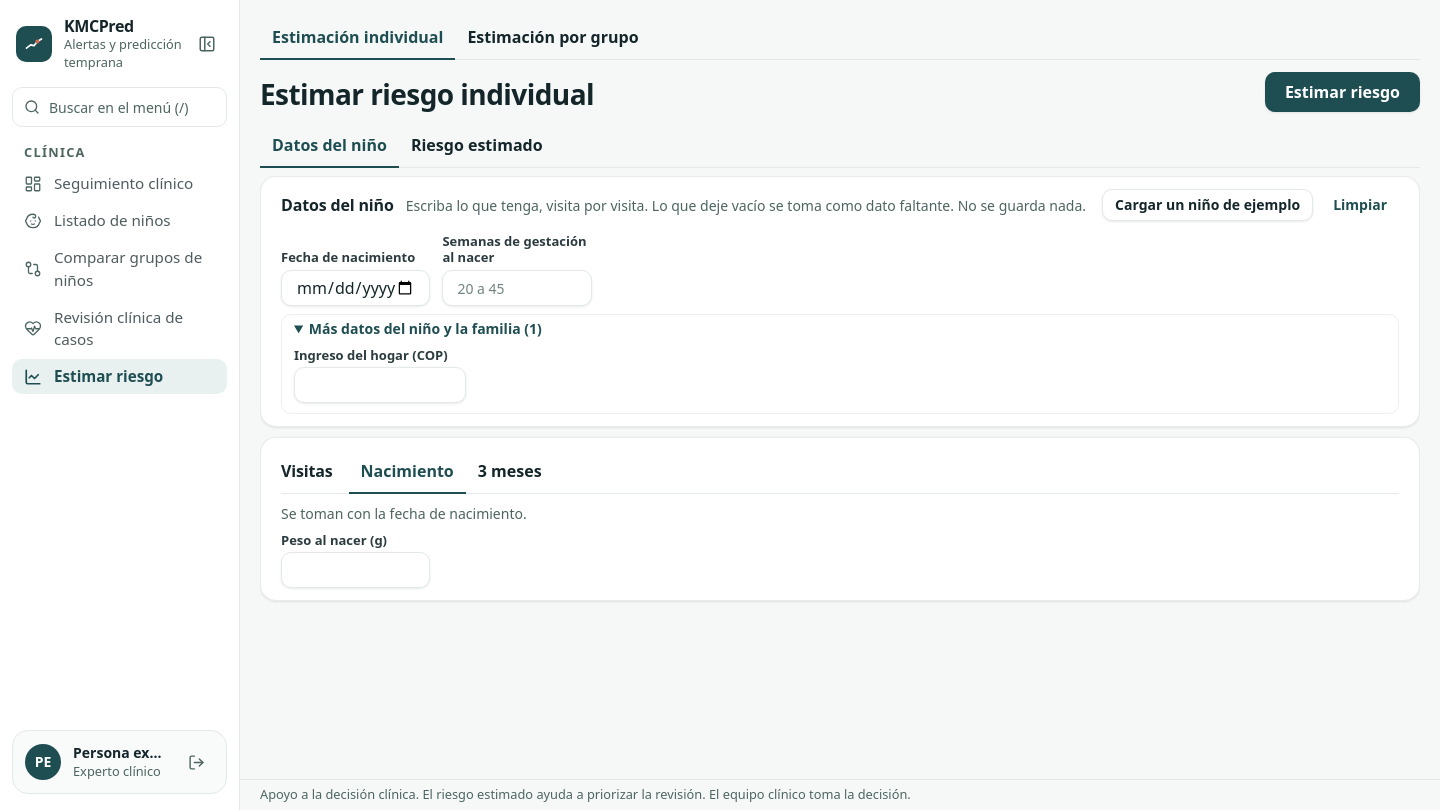
Test: calcular el riesgo de un niño › arma la petición desde el formulario y muestra el resultado en palabras clínicas
This screenshot has width=1440, height=810.
Type "2026-01-10" into the date field labelled "Fecha de nacimiento" at coordinates (356, 288), box [281,270,430,306]
Type "30,5" into the field labelled "Semanas de gestación al nacer" at coordinates (517, 288), box [442,270,592,306]
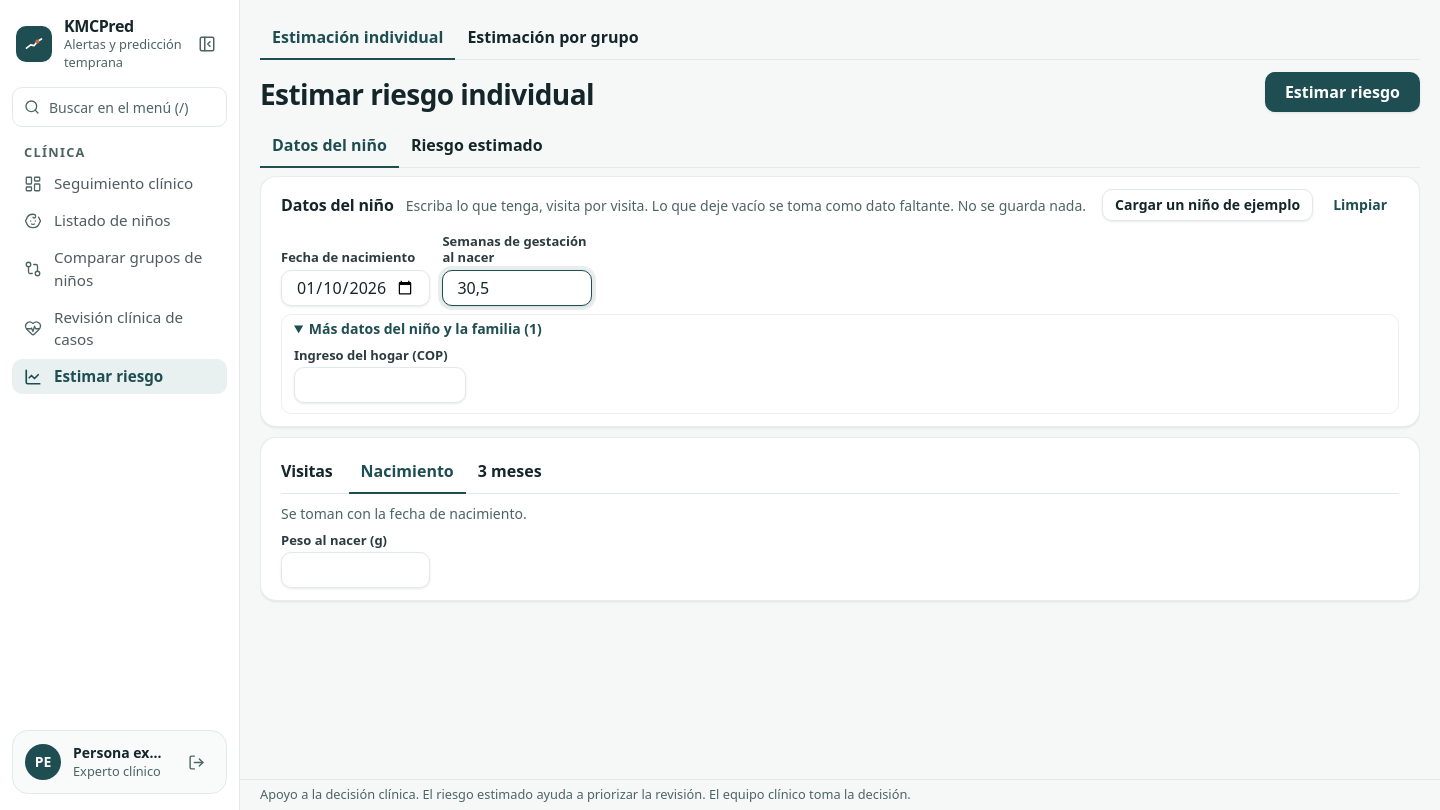
Click the tab "3 meses" at coordinates (510, 472), box [466,450,554,494]
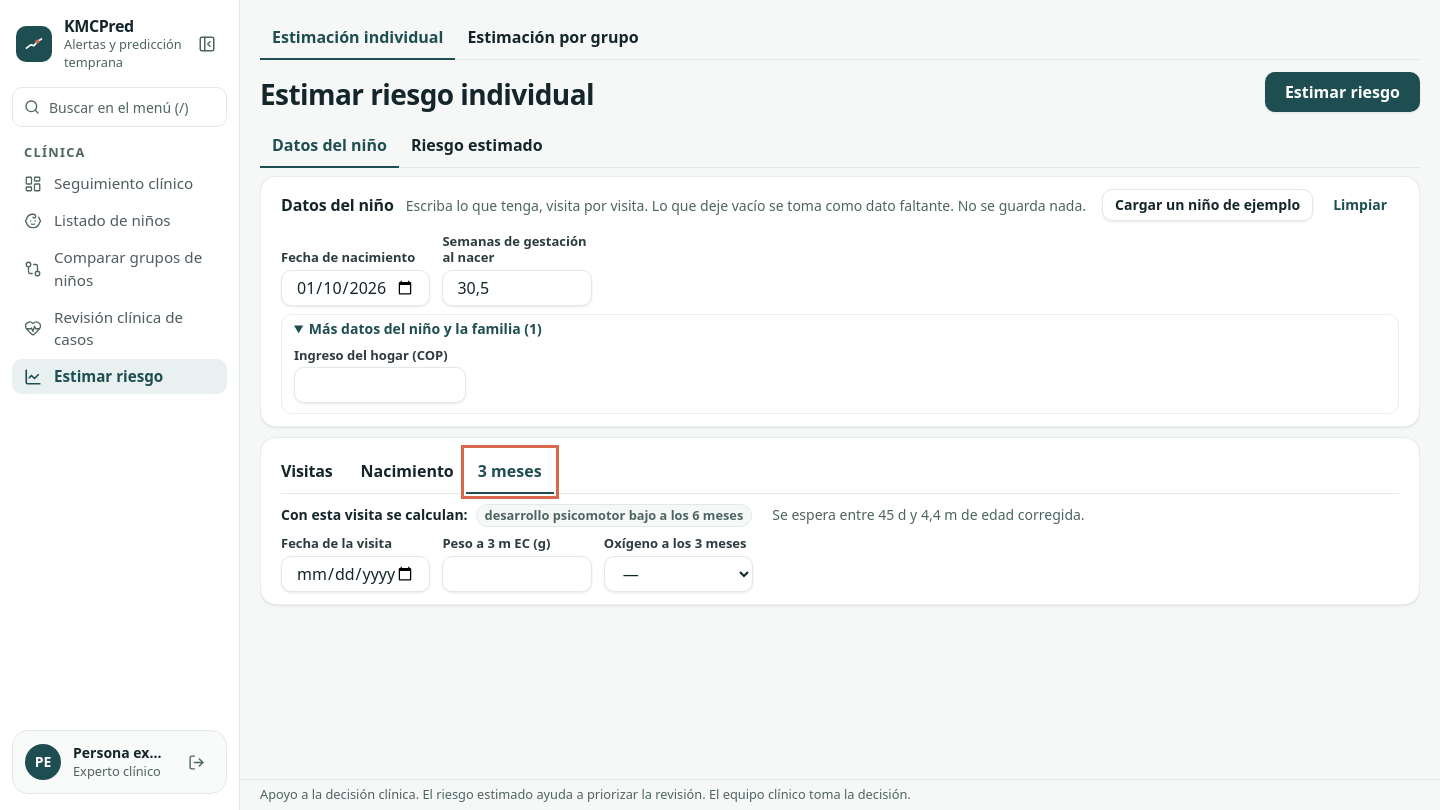
Expected: the list item "desarrollo psicomotor bajo a los 6 meses" is shown, [476,504,752,527]
Type "9999" into the field labelled "Peso a 3 m EC (g)" at coordinates (517, 574), box [442,556,592,592]
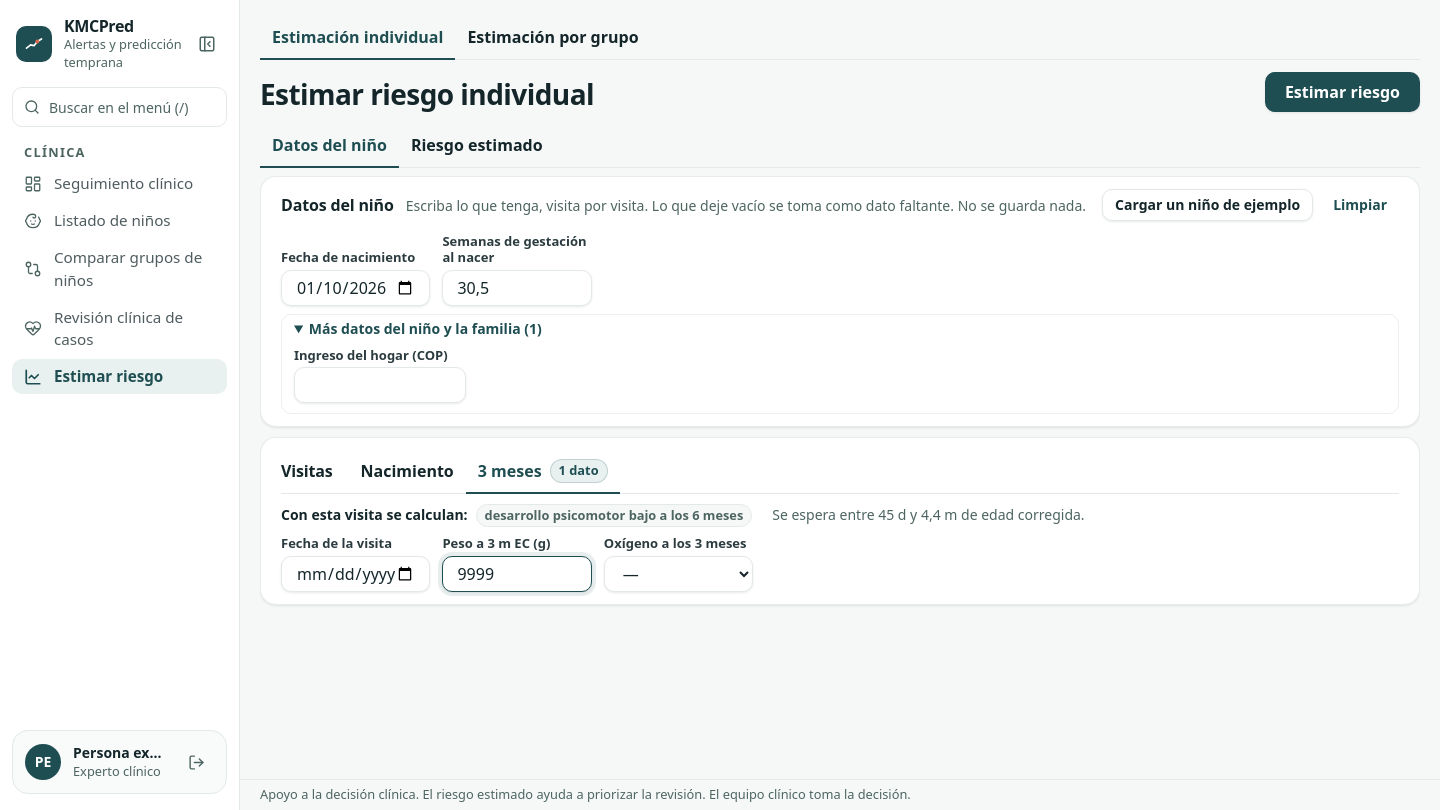
Select "sin diagnóstico" in the dropdown labelled "Oxígeno a los 3 meses" at coordinates (678, 574), box [604,556,753,592]
Note: sin la fecha de la visita no se calcula, y se dice por qué
Click the button "Estimar riesgo" at coordinates (1342, 92), box [1265,72,1420,112]
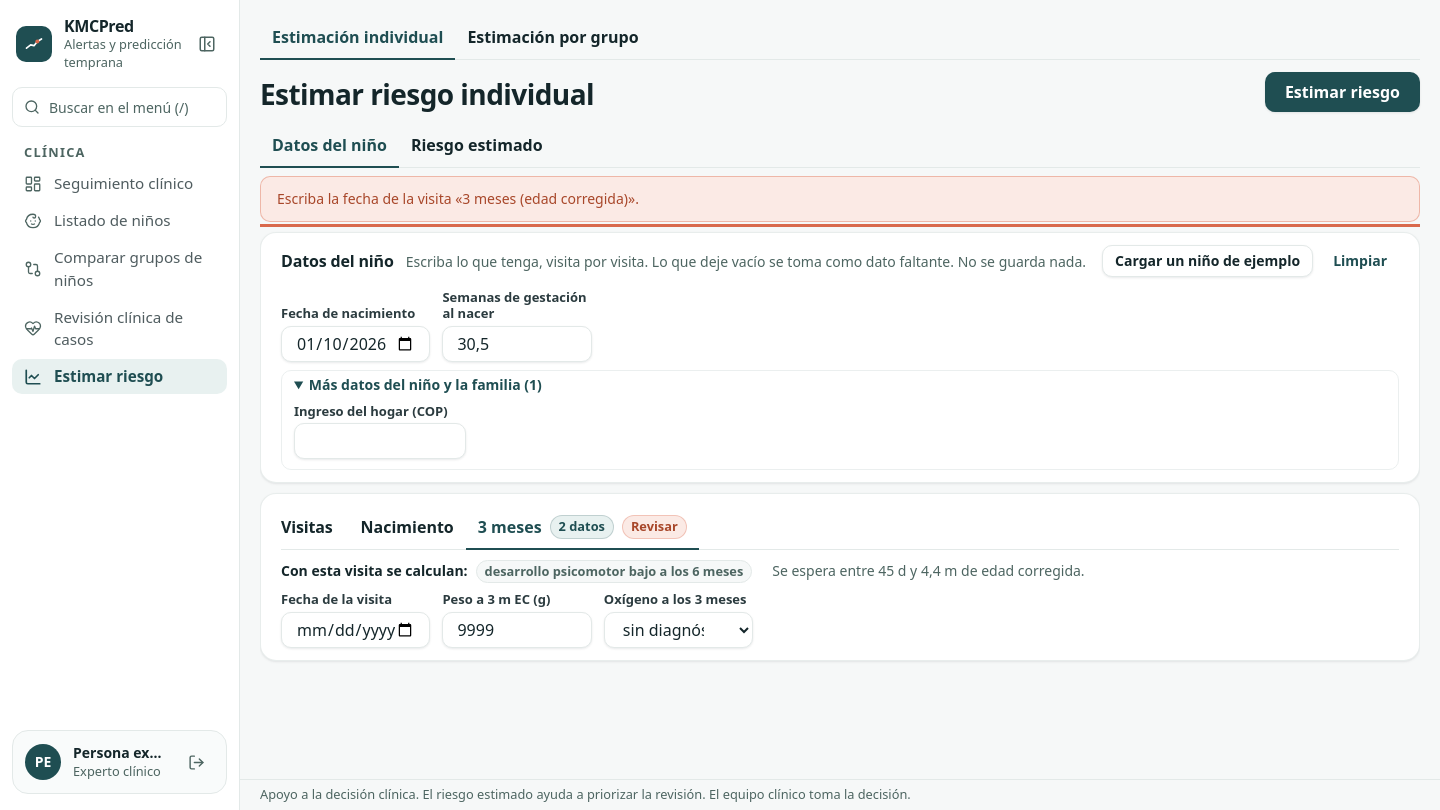
Expected: the text "Escriba la fecha de la visita «3 meses (edad corregida)»." is shown, [260,176,1420,222]
Type "2026-05-10" into the date field labelled "Fecha de la visita" at coordinates (356, 630), box [281,612,430,648]
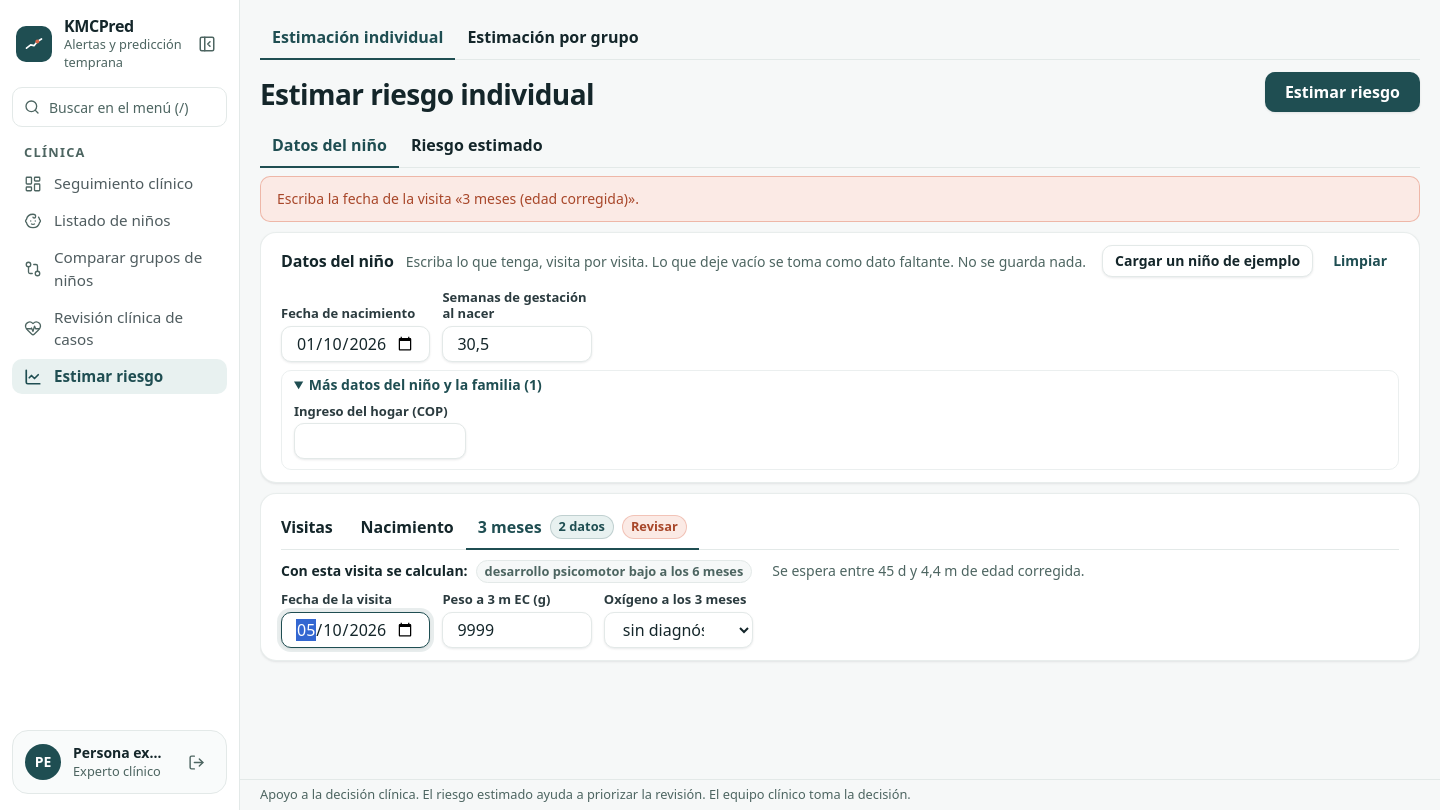
Click the button "Estimar riesgo" at coordinates (1342, 92), box [1265,72,1420,112]
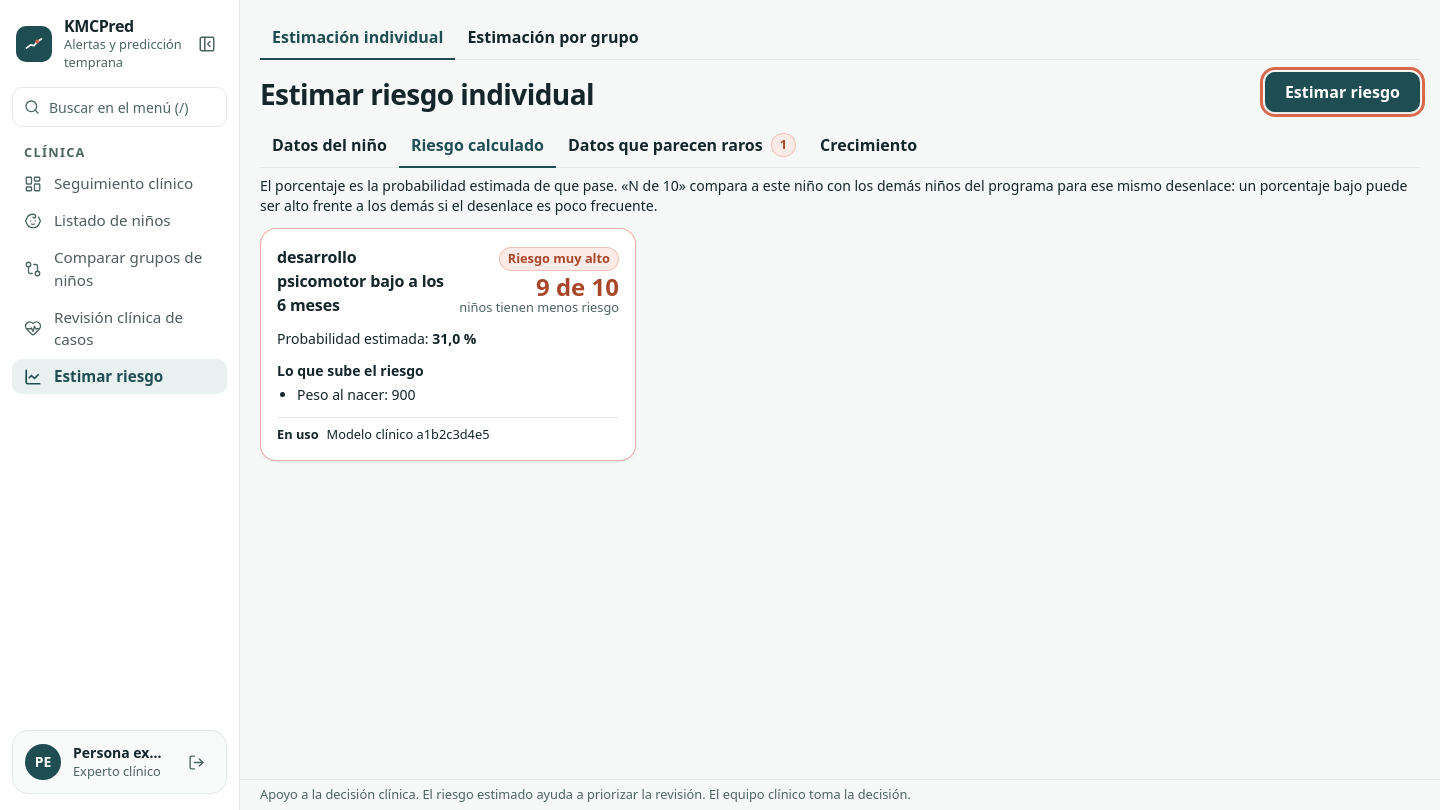
Expected: the text "En uso" is shown, [277,426,319,444]
Expected: the text "Modelo clínico a1b2c3d4e5" is shown, [327,426,490,444]
Expected: the text "Riesgo muy alto" is shown, [499,247,619,271]
